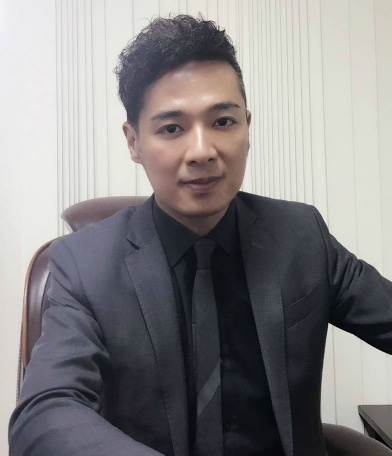male: (112, 9, 284, 237)
